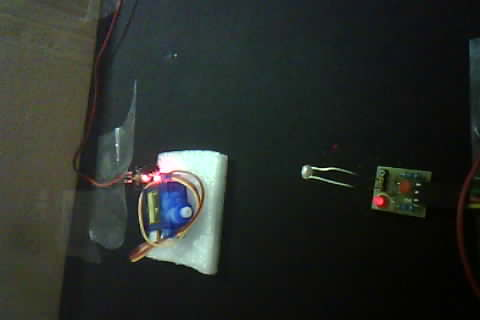motor: (138, 149, 228, 267)
